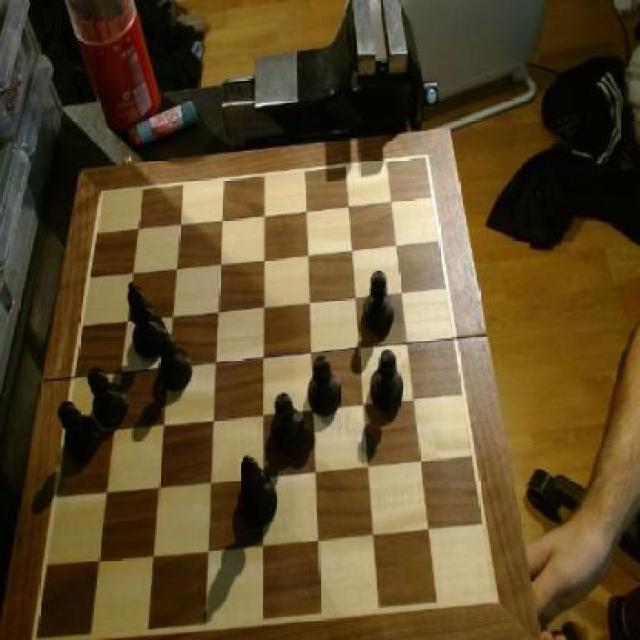bishop: (123, 277, 166, 362), (236, 451, 280, 532)
black-knight: (85, 363, 129, 432), (54, 398, 98, 459), (270, 392, 308, 462), (369, 348, 407, 417), (157, 326, 195, 395), (362, 268, 398, 338), (308, 355, 344, 421)
